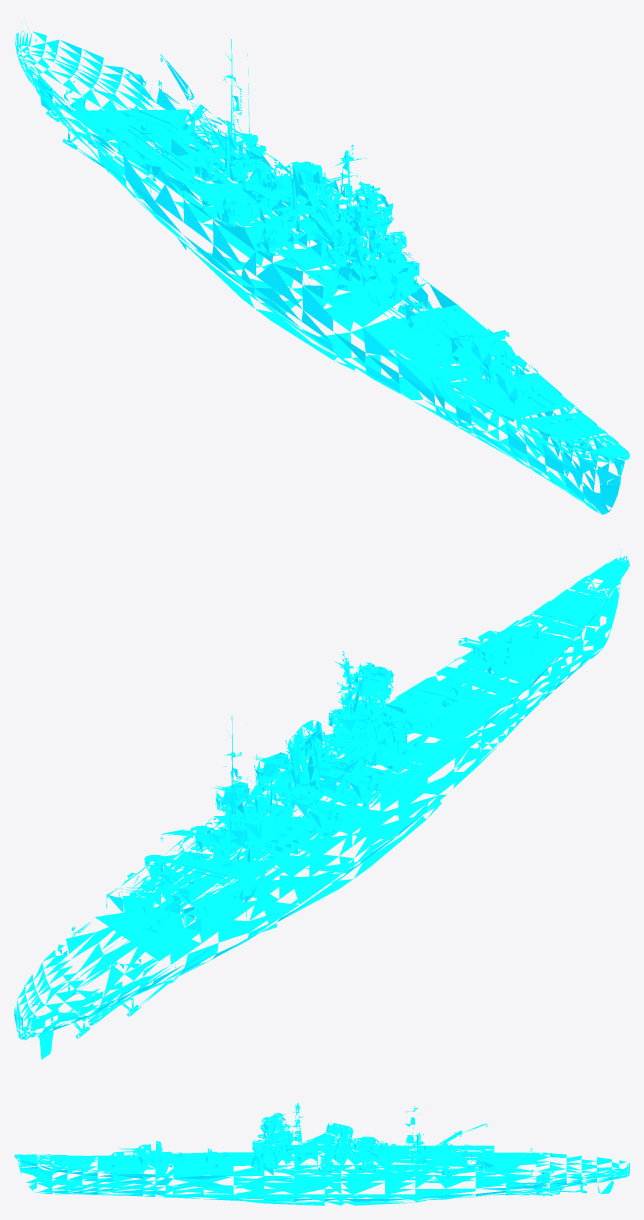
The model's file is PJSC919.glb.
3 views of the same model, one above another, from view 1: azimuth 30°, elevation 25°; view 2: azimuth 150°, elevation 25°; view 3: azimuth 270°, elevation 25° (orthographic). The views are drawn at different scales.
Visible parts, largest first — view 1: hull, turret; view 2: hull, turret; view 3: hull, turret.
Part boxes in pixels (box(x1,y1,x2,y2)): hull: box(14, 26, 629, 514); turret: box(215, 176, 555, 408); hull: box(14, 548, 629, 1059); turret: box(212, 615, 555, 827); hull: box(14, 1103, 629, 1205); turret: box(92, 1134, 372, 1168).
Size of the model in its own units: 1.65 by 2.53 by 13.44.
